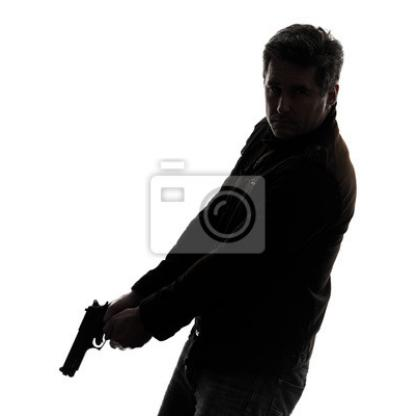gun: (56, 296, 122, 380)
